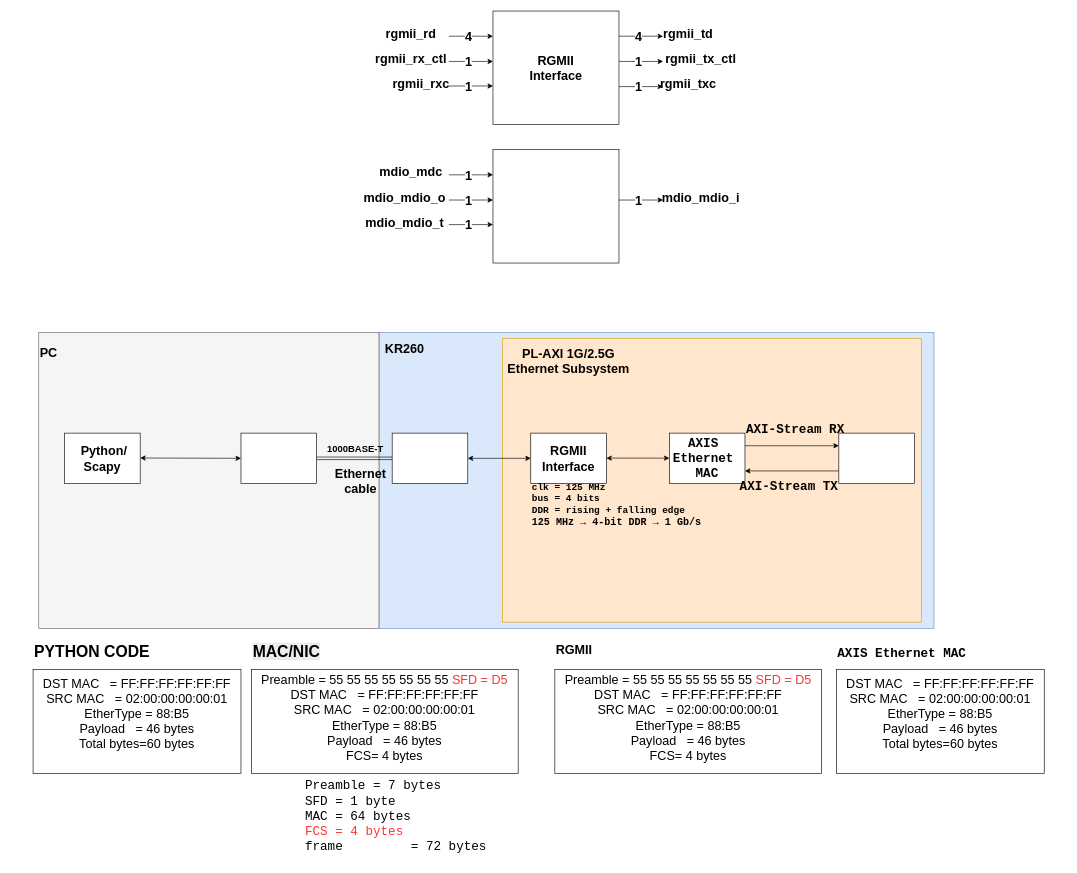
This 1077x873 diagram has some shape labels left out. The shapes that lost their labels are listed below. From the top down, each one's box as (x1, y1, x2, y2) in pixels, then its label:
(492, 149, 619, 263): MDIO Interface
(240, 432, 317, 484): Ethernet NIC (MAC+PHY)
(392, 432, 468, 484): J10B PHY
(838, 432, 914, 484): UDP Parser
